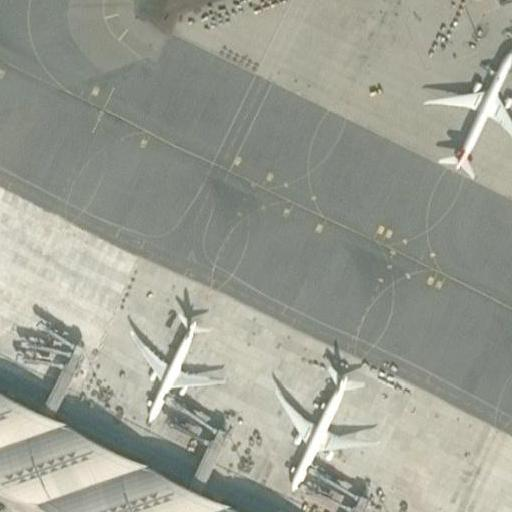Aircraft: (270, 349, 379, 492), (122, 293, 223, 427), (420, 39, 512, 180)
